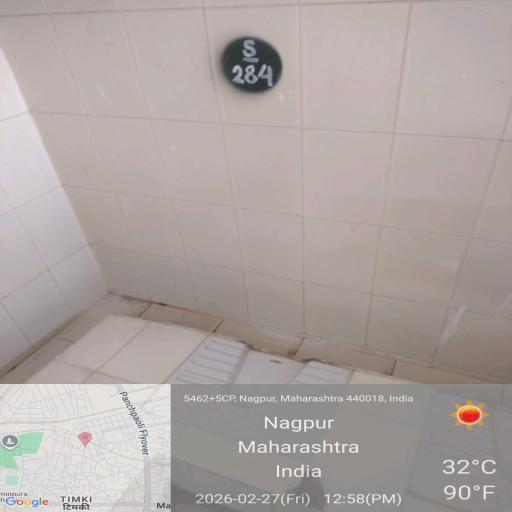clean_floor: (34, 24, 464, 332)
clean_urinal: (56, 310, 474, 490)
